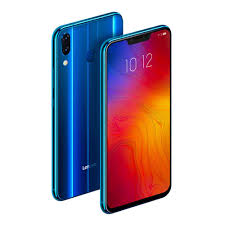lenovo: (96, 21, 174, 214)
